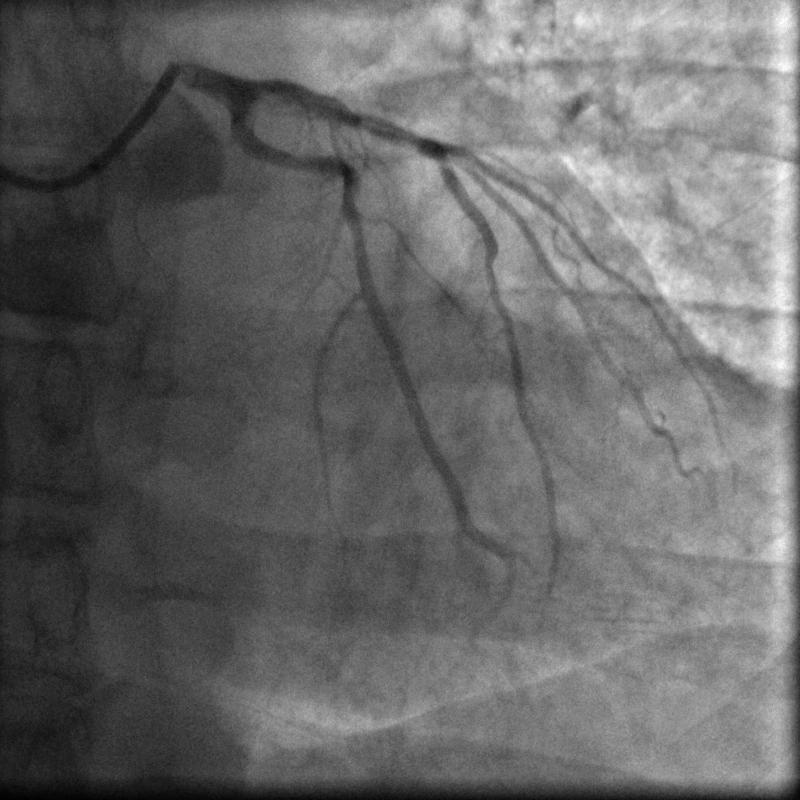Stenosis: (347, 108, 444, 155)
